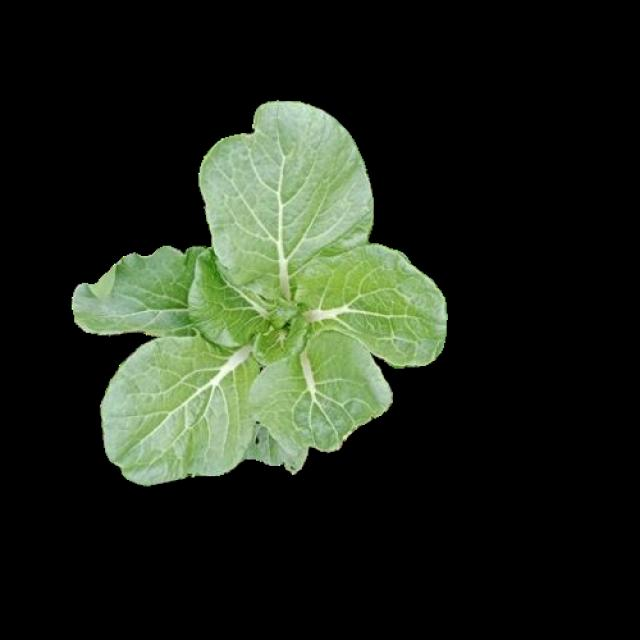mature: (70, 100, 443, 482)
unhealthy: (245, 314, 392, 478), (72, 245, 245, 339)
